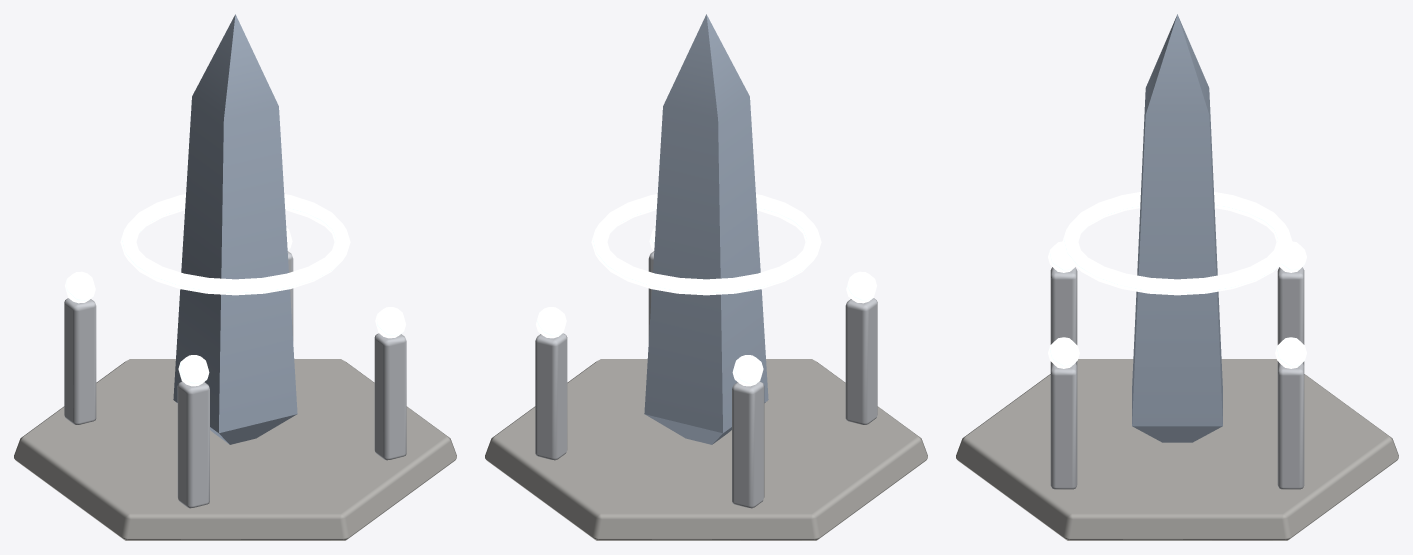
The model's file is special.glb.
The picture shows the model from 3 angles, left to right: view 1: azimuth 30°, elevation 25°; view 2: azimuth 150°, elevation 25°; view 3: azimuth 270°, elevation 25°; orthographic projection.
Parts seen in each view (by area): view 1: special; view 2: special; view 3: special.
Boxes of the visible parts, left/top/right/bottom form: special: left=14, top=14, right=456, bottom=540; special: left=485, top=14, right=927, bottom=540; special: left=956, top=14, right=1398, bottom=540.
Size of the model in its own units: 0.723 by 0.92 by 0.8267.
